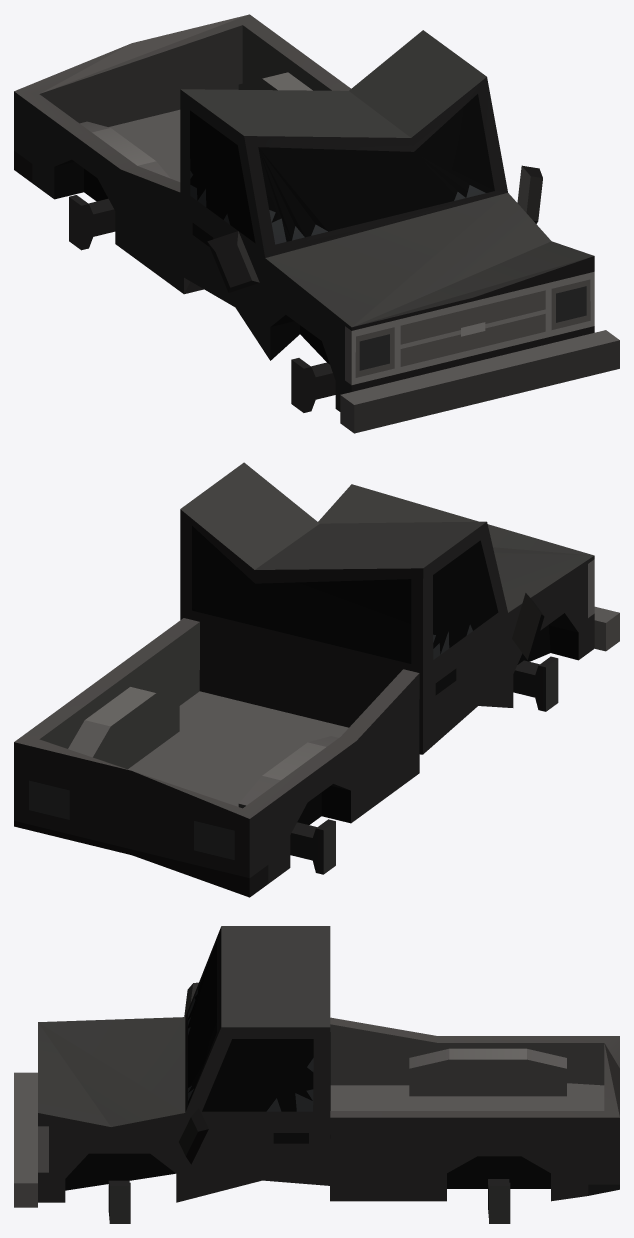
The model's file is SA_Prop_BurntBlack_Ute_01.glb.
3 views of the same model, one above another, from view 1: azimuth 30°, elevation 25°; view 2: azimuth 150°, elevation 25°; view 3: azimuth 270°, elevation 25° (orthographic). The views are drawn at different scales.
Parts seen in each view (by area): view 1: SA_Prop_BurntBlack_Ute_01; view 2: SA_Prop_BurntBlack_Ute_01; view 3: SA_Prop_BurntBlack_Ute_01.
Boxes of the visible parts, box(x1,y1,x2,y2) form: SA_Prop_BurntBlack_Ute_01: box(14, 14, 619, 433); SA_Prop_BurntBlack_Ute_01: box(14, 462, 619, 897); SA_Prop_BurntBlack_Ute_01: box(14, 926, 619, 1223).
Size of the model in its own units: 1.61 by 1.05 by 2.96.
Materials: 1 (1 with a texture image).
